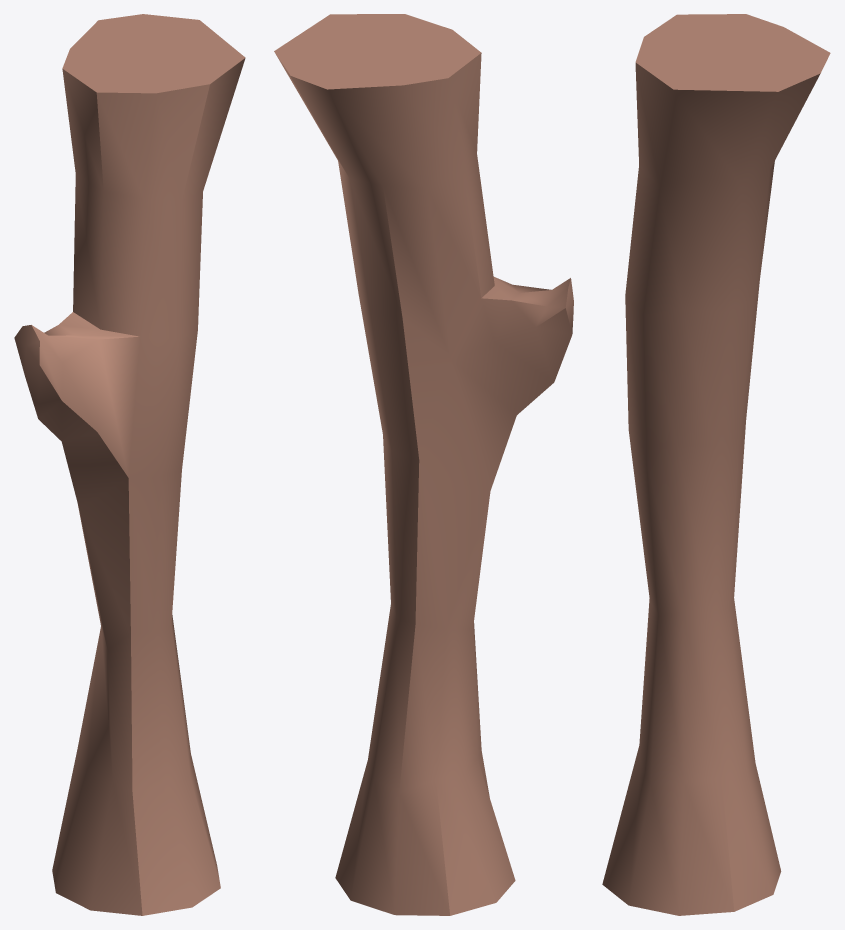
Rendered from RuralHousesTileSet_Column02.fbx.
3 renders of one model, left to right at view 1: azimuth 30°, elevation 25°; view 2: azimuth 150°, elevation 25°; view 3: azimuth 270°, elevation 25°, orthographic. The views are drawn at different scales.
Parts seen in each view (by area): view 1: RuralHousesTileSet_Column02; view 2: RuralHousesTileSet_Column02; view 3: RuralHousesTileSet_Column02.
Boxes of the visible parts, x1,y1,x2,y2 form: RuralHousesTileSet_Column02: (14,14,245,915); RuralHousesTileSet_Column02: (274,14,573,915); RuralHousesTileSet_Column02: (602,14,830,915).
Bounding box in the file's own units: 132 × 433 × 107.
